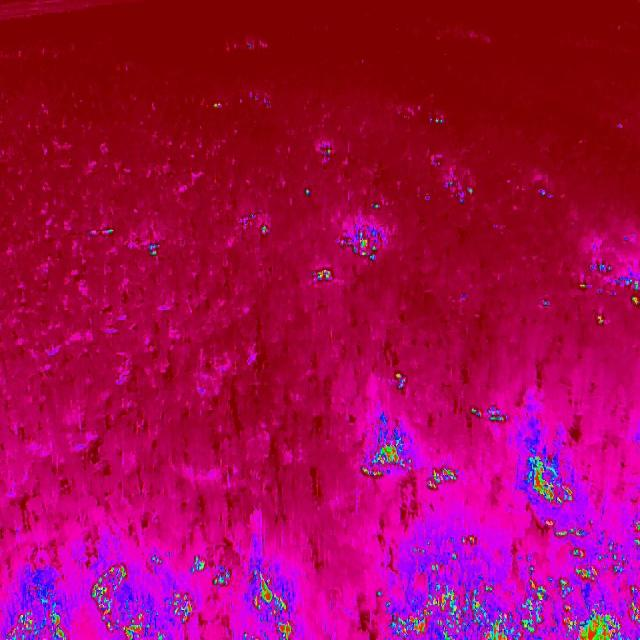fire: (372, 517, 640, 640), (1, 554, 314, 640), (348, 420, 461, 501), (576, 272, 640, 338), (514, 451, 580, 511), (334, 225, 385, 265), (468, 400, 514, 429), (310, 266, 338, 286), (391, 369, 409, 399), (146, 238, 164, 260), (258, 220, 272, 236)
